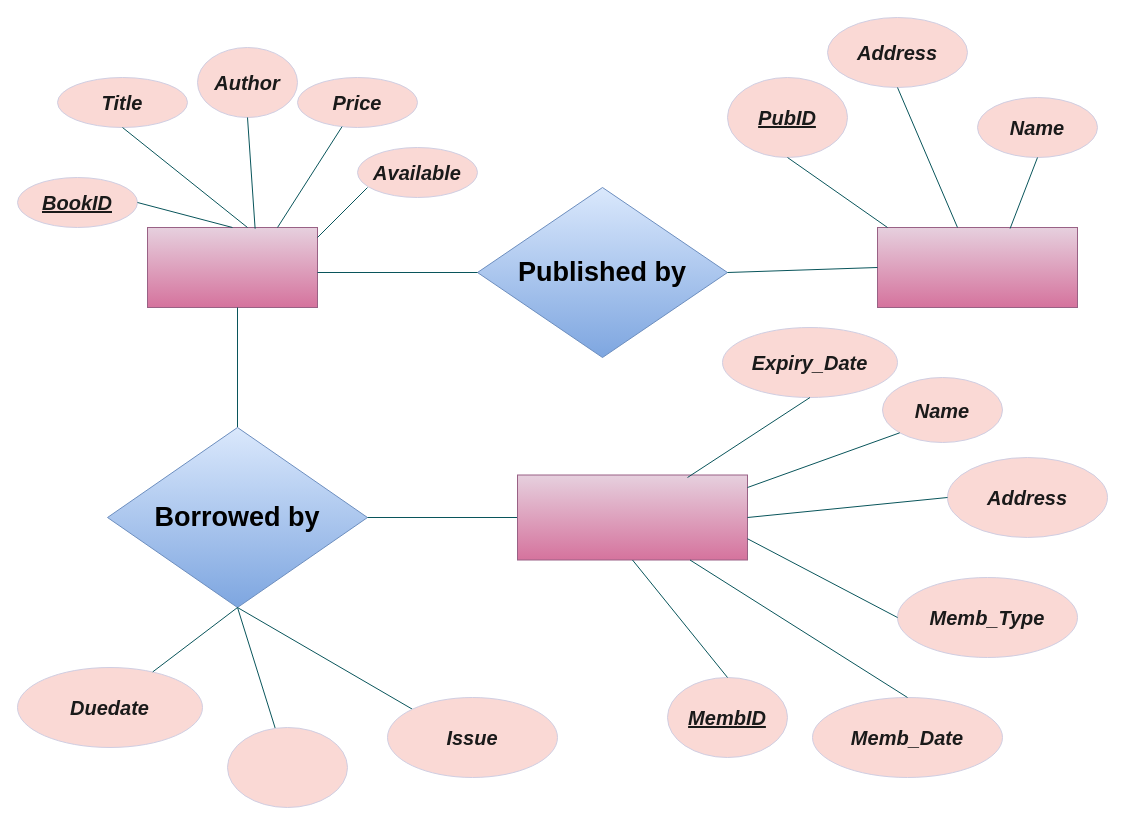
Some shapes in this 1125 by 825 pixel diagram are drawn without their labels. Here are the shapes that lost their labels. From the top down, the box of each, then its label:
(146, 226, 318, 308): Books
(876, 226, 1078, 308): Publisher
(516, 474, 748, 560): Member
(226, 726, 348, 808): Returndate
